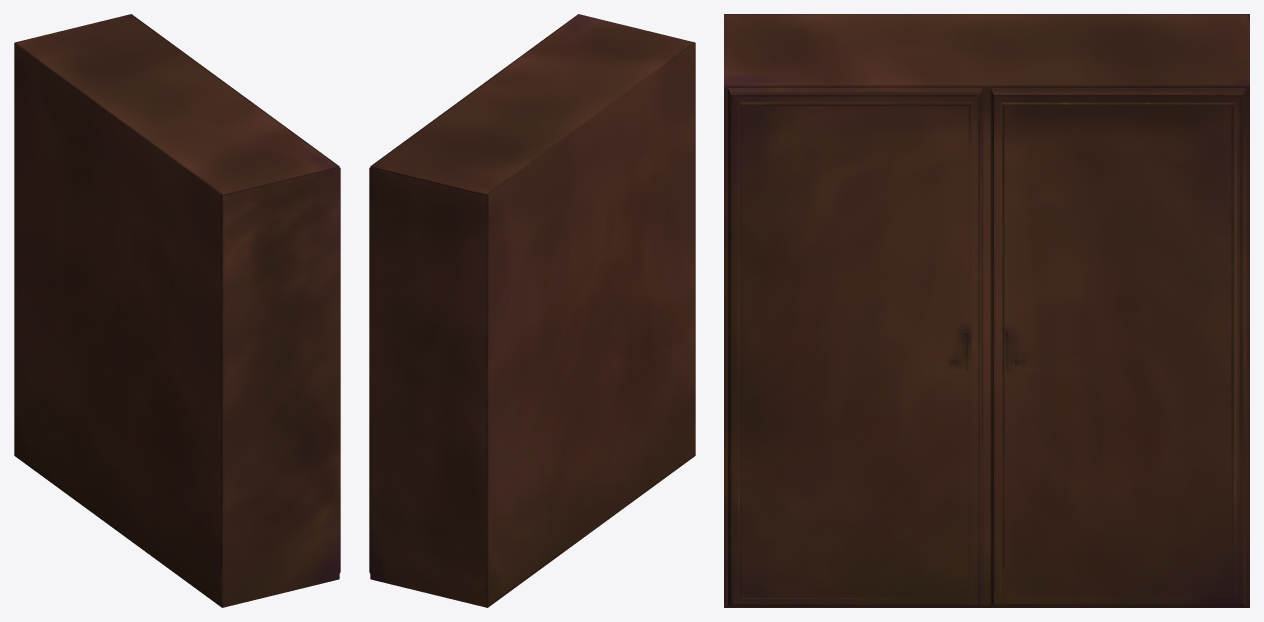
The model's file is CabnetHide.fbx.
3 views of the same model, side by side, from view 1: azimuth 30°, elevation 25°; view 2: azimuth 150°, elevation 25°; view 3: azimuth 270°, elevation 25° (orthographic). The views are drawn at different scales.
Parts seen in each view (by area): view 1: Cube.001; view 2: Cube.001; view 3: Cube.001.
Part boxes in pixels (bbox=[...]): Cube.001: bbox=[14, 14, 340, 607]; Cube.001: bbox=[369, 14, 695, 607]; Cube.001: bbox=[724, 14, 1249, 607].
Size of the model in its own units: 63.52 by 200 by 183.
Materials: 1 (1 with a texture image).
